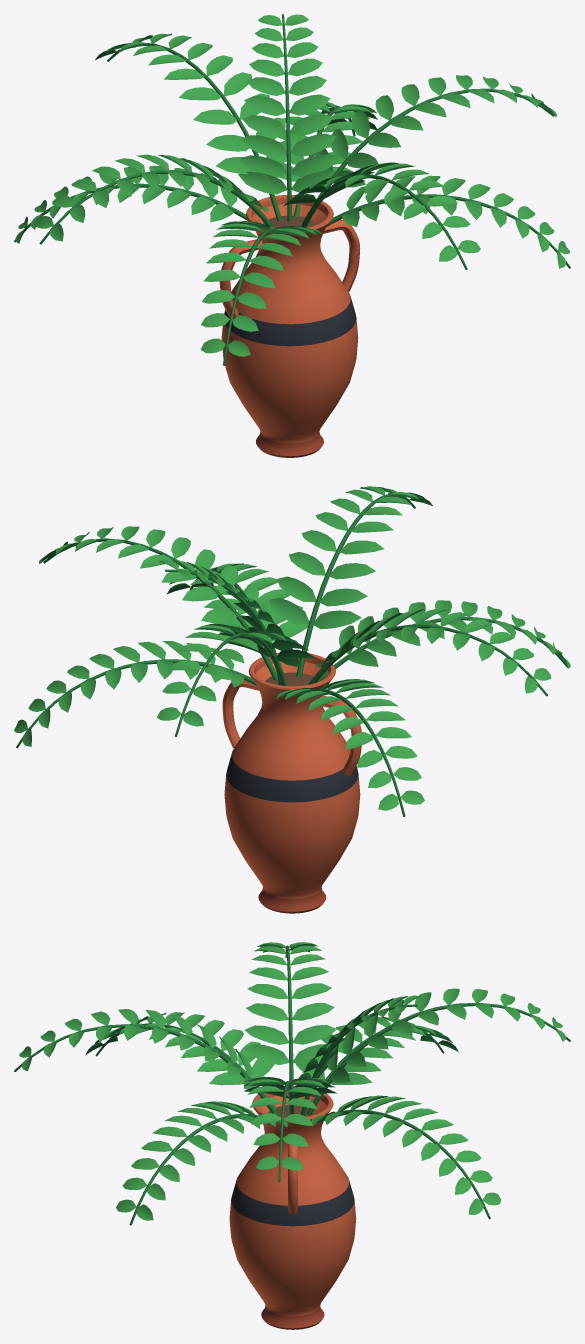
File: planta_samambaia_anfora.glb
The picture shows the model from 3 angles, top to bottom: view 1: azimuth 30°, elevation 25°; view 2: azimuth 150°, elevation 25°; view 3: azimuth 270°, elevation 25°; orthographic projection. The views are drawn at different scales.
Visible parts, largest first — view 1: planta_samambaia_anfora; view 2: planta_samambaia_anfora; view 3: planta_samambaia_anfora.
Part boxes in pixels (x1=…): planta_samambaia_anfora: x1=14, y1=14, x2=570, y2=457; planta_samambaia_anfora: x1=14, y1=486, x2=570, y2=913; planta_samambaia_anfora: x1=14, y1=942, x2=570, y2=1329.
Size of the model in its own units: 1.21 by 0.8329 by 1.23.
Materials: 1 (1 with a texture image).
